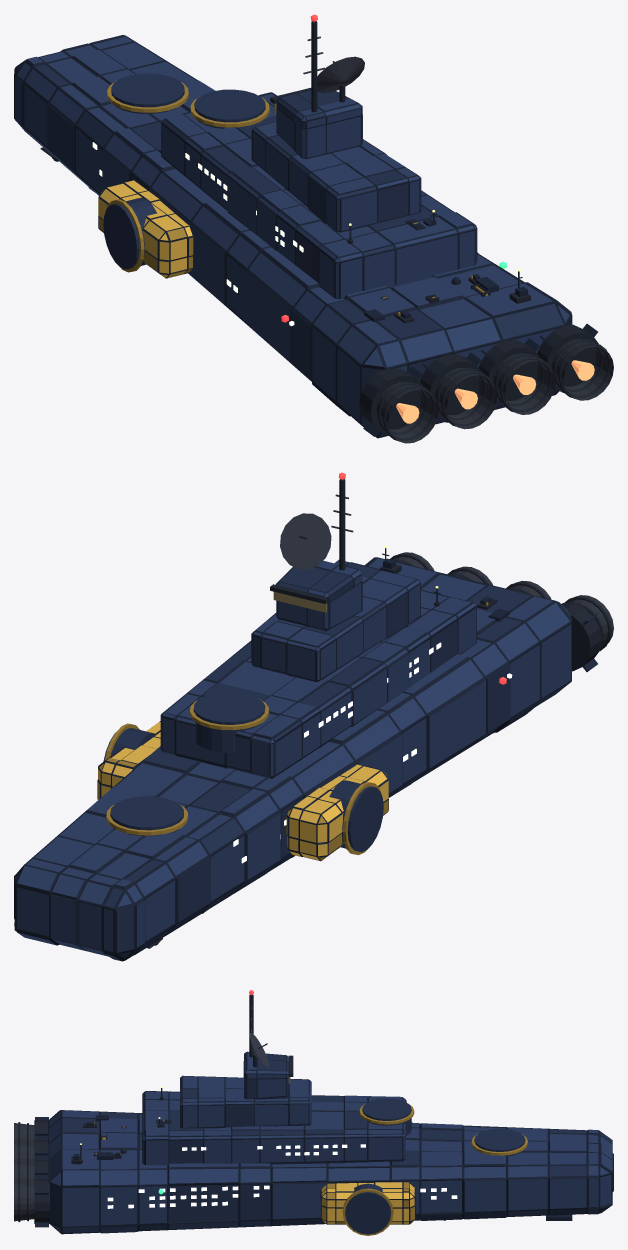
The model's file is monarch.glb.
The picture shows the model from 3 angles, top to bottom: view 1: azimuth 30°, elevation 25°; view 2: azimuth 150°, elevation 25°; view 3: azimuth 270°, elevation 25°; orthographic projection. The views are drawn at different scales.
Visible parts, largest first — view 1: monarch_mesh, radar_mesh; view 2: monarch_mesh, radar_mesh; view 3: monarch_mesh, radar_mesh.
Part boxes in pixels (x1=…): monarch_mesh: x1=14, y1=21, x2=613, y2=443; radar_mesh: x1=317, y1=56, x2=364, y2=102; monarch_mesh: x1=14, y1=479, x2=613, y2=961; radar_mesh: x1=280, y1=513, x2=331, y2=569; monarch_mesh: x1=14, y1=994, x2=613, y2=1235; radar_mesh: x1=249, y1=1032, x2=269, y2=1067.
Size of the model in its own units: 10.43 by 12.82 by 31.88.
